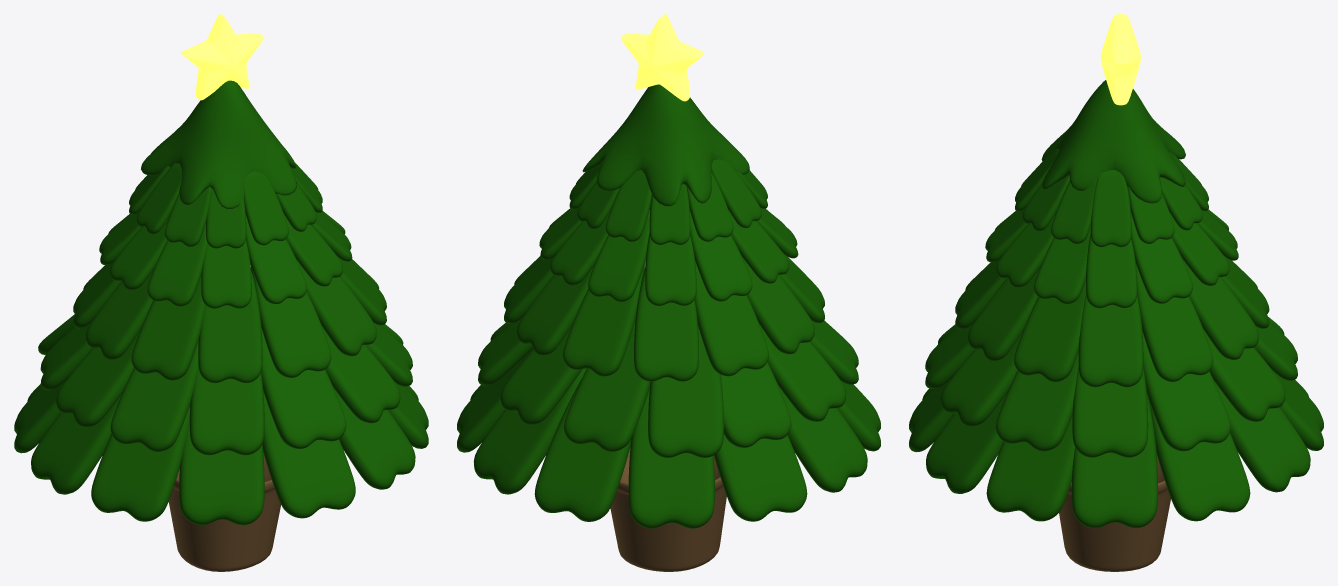
The model's file is 室内圣诞树.fbx.
3 renders of one model, left to right at view 1: azimuth 30°, elevation 25°; view 2: azimuth 150°, elevation 25°; view 3: azimuth 270°, elevation 25°, orthographic.
Visible parts, largest first — view 1: 立方体.241, 立方体.188, 立方体.187, 立方体.189, 立方体.242, 立方体.224, 立方体.223, 立方体.225, 立方体.212, 立方体.213, 立方体.211, 立方体.190 (+27 smaller); view 2: 立方体.241, 立方体.192, 立方体.228, 立方体.181, 立方体.191, 立方体.242, 立方体.217, 立方体.216, 立方体.182, 立方体.215, 立方体.205, 立方体.190 (+25 smaller); view 3: 立方体.241, 立方体.184, 立方体.183, 立方体.185, 立方体.220, 立方体.242, 立方体.219, 立方体.208, 立方体.221, 立方体.207, 立方体.182, 立方体.209 (+26 smaller).
Part boxes in pixels (x1,y1,x2,y2): 立方体.241: [141, 80, 296, 208]; 立方体.188: [179, 421, 264, 525]; 立方体.187: [262, 392, 355, 518]; 立方体.189: [91, 406, 189, 521]; 立方体.242: [168, 452, 280, 571]; 立方体.224: [189, 368, 264, 455]; 立方体.223: [261, 329, 346, 448]; 立方体.225: [110, 341, 198, 451]; 立方体.212: [198, 270, 262, 382]; 立方体.213: [131, 276, 205, 380]; 立方体.211: [251, 266, 331, 377]; 立方体.190: [31, 394, 121, 494]; 立方体.241: [582, 84, 749, 206]; 立方体.192: [628, 389, 714, 528]; 立方体.228: [648, 326, 723, 457]; 立方体.181: [534, 379, 631, 521]; 立方体.191: [714, 434, 807, 521]; 立方体.242: [610, 448, 726, 571]; 立方体.217: [564, 321, 650, 451]; 立方体.216: [634, 267, 698, 381]; 立方体.182: [473, 368, 586, 494]; 立方体.215: [694, 262, 768, 376]; 立方体.205: [563, 265, 644, 376]; 立方体.190: [779, 387, 867, 492]; 立方体.241: [1041, 80, 1185, 203]; 立方体.184: [1071, 394, 1157, 528]; 立方体.183: [1148, 398, 1250, 521]; 立方体.185: [986, 415, 1074, 521]; 立方体.220: [1072, 366, 1148, 457]; 立方体.242: [1059, 454, 1170, 571]; 立方体.219: [1142, 332, 1230, 451]; 立方体.208: [1078, 292, 1143, 387]; 立方体.221: [996, 352, 1078, 451]; 立方体.207: [1136, 264, 1213, 381]; 立方体.182: [1215, 382, 1310, 492]; 立方体.209: [1014, 281, 1086, 381].
Bounding box in the file's own units: 488 × 695 × 479.
